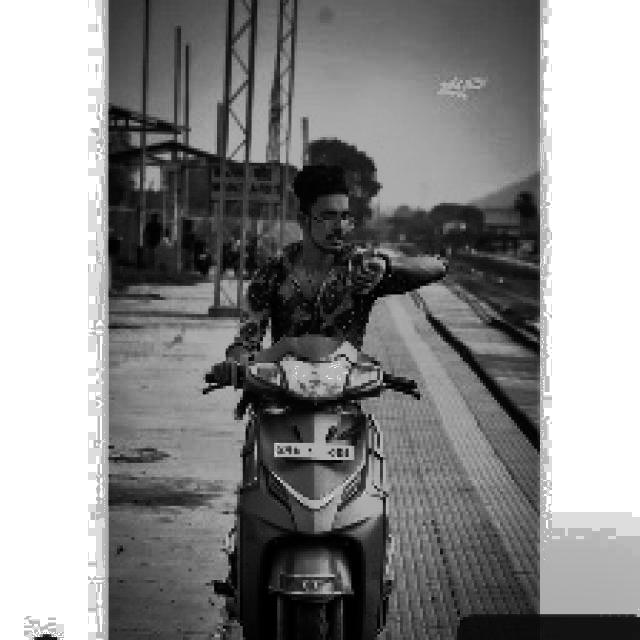Bike: (224, 347, 416, 639)
